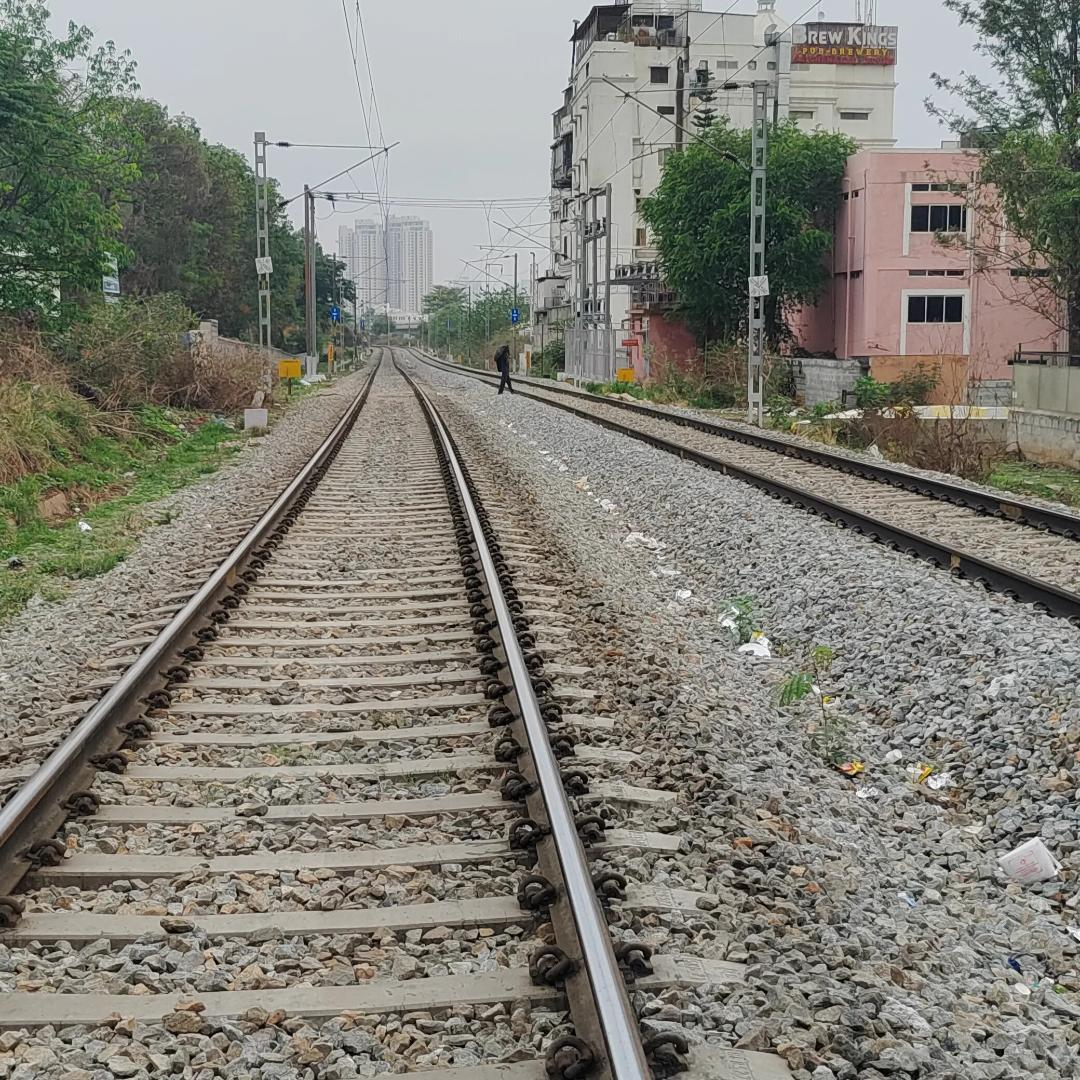standing: (492, 341, 515, 401)
track: (2, 335, 730, 1080)
